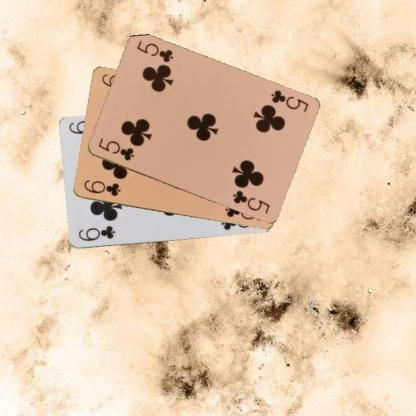5c: (268, 87, 310, 114), (96, 136, 136, 162)
6c: (76, 223, 116, 243), (81, 178, 121, 198)
